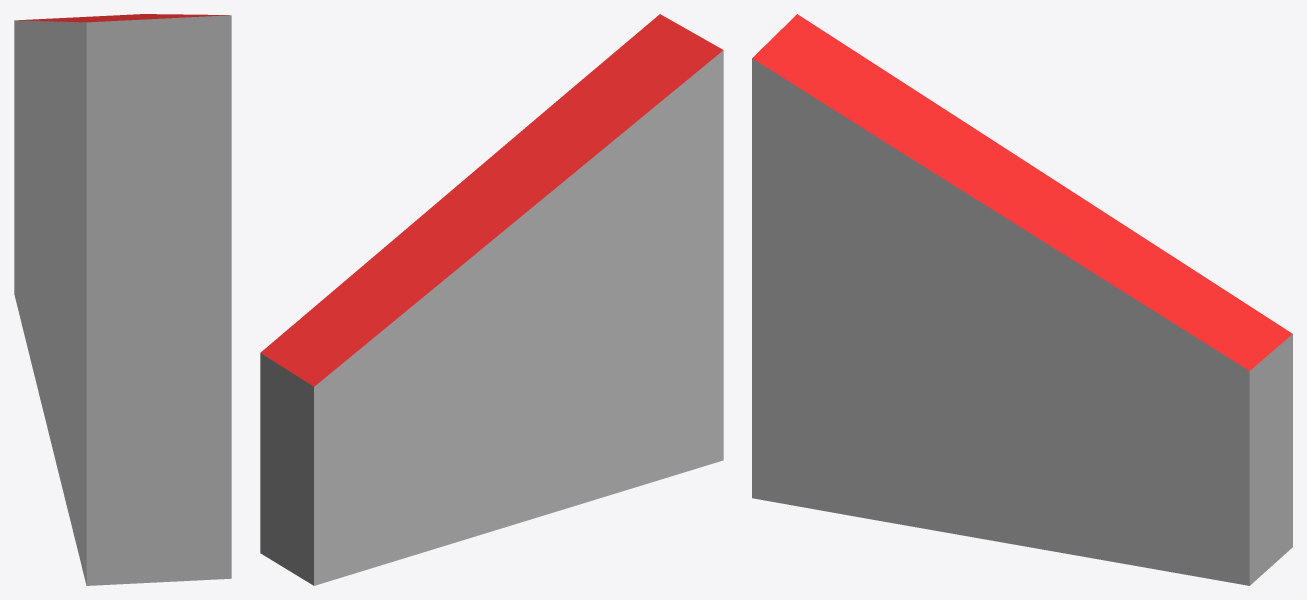
Rendered from DEBY_LOD2_42364673.dae.
The picture shows the model from 3 angles, left to right: view 1: azimuth 30°, elevation 25°; view 2: azimuth 150°, elevation 25°; view 3: azimuth 270°, elevation 25°; orthographic projection. The views are drawn at different scales.
Bounding box in the file's own units: 4.71 × 8.15 × 7.32.
